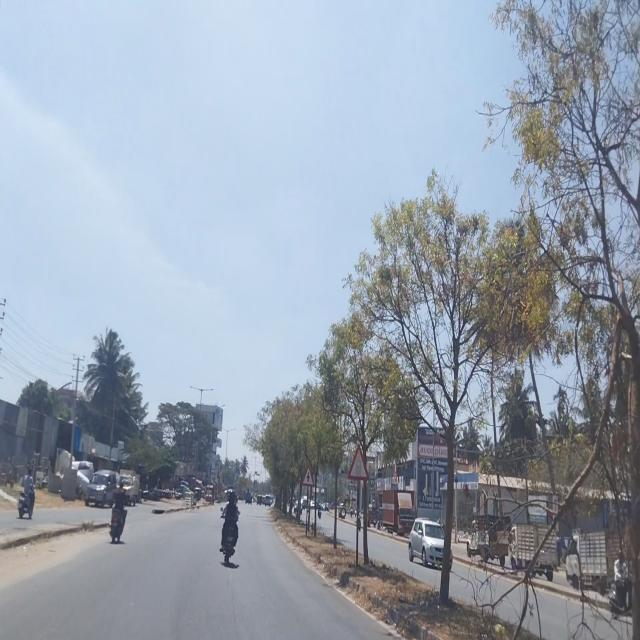bien_cam: (348, 443, 369, 481), (302, 465, 314, 487)
